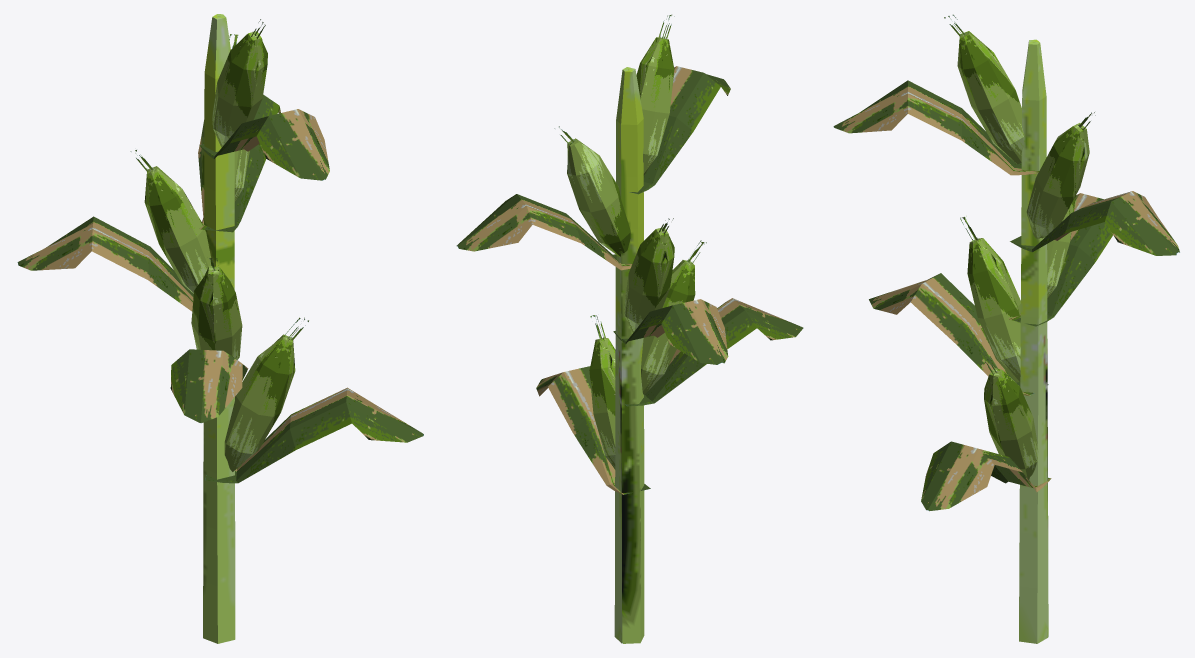
Rendered from CornStalk.fbx.
3 renders of one model, left to right at view 1: azimuth 30°, elevation 25°; view 2: azimuth 150°, elevation 25°; view 3: azimuth 270°, elevation 25°, orthographic. The views are drawn at different scales.
Parts seen in each view (by area): view 1: CornStalk; view 2: CornStalk; view 3: CornStalk.
Boxes of the visible parts, box(x1,y1,x2,y2) form: CornStalk: box(17, 14, 423, 643); CornStalk: box(456, 14, 803, 643); CornStalk: box(833, 14, 1179, 643).
Size of the model in its own units: 197 by 401 by 203.
1 material, 1 textured.
